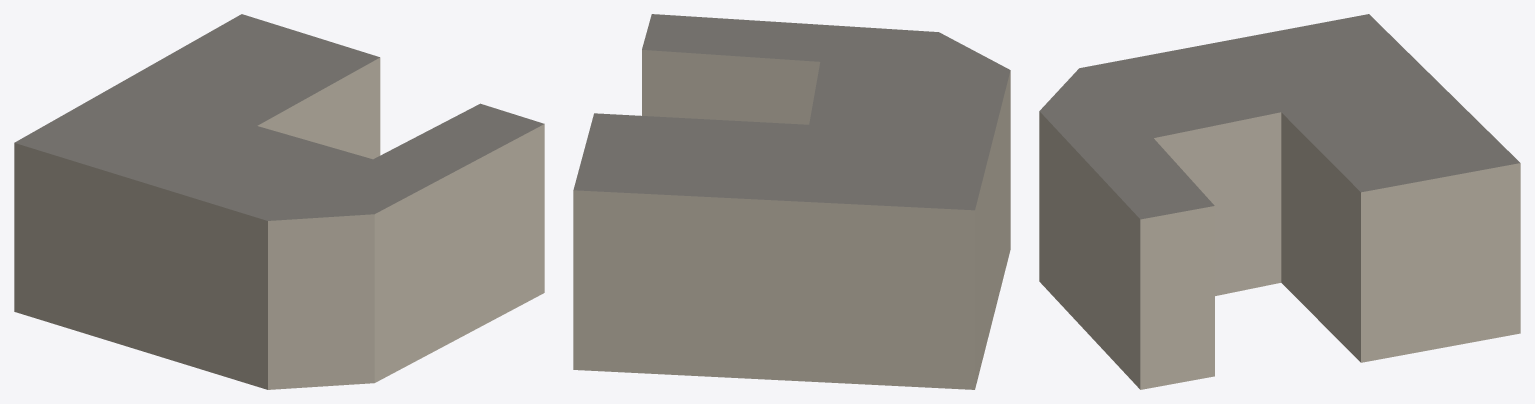
3 views of the same model, side by side, from view 1: azimuth 30°, elevation 25°; view 2: azimuth 150°, elevation 25°; view 3: azimuth 270°, elevation 25° (orthographic). The views are drawn at different scales.
Parts seen in each view (by area): view 1: HP-w757482002; view 2: HP-w757482002; view 3: HP-w757482002.
Part boxes in pixels (left/top/right/bottom): HP-w757482002: left=14, top=14, right=544, bottom=389; HP-w757482002: left=573, top=14, right=1010, bottom=389; HP-w757482002: left=1039, top=14, right=1520, bottom=389.
Size of the model in its own units: 46.52 by 18 by 46.03.
